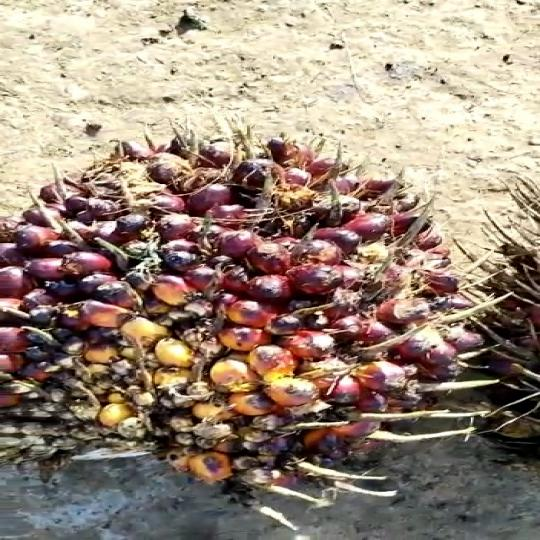kurang masak: (9, 127, 470, 502)
